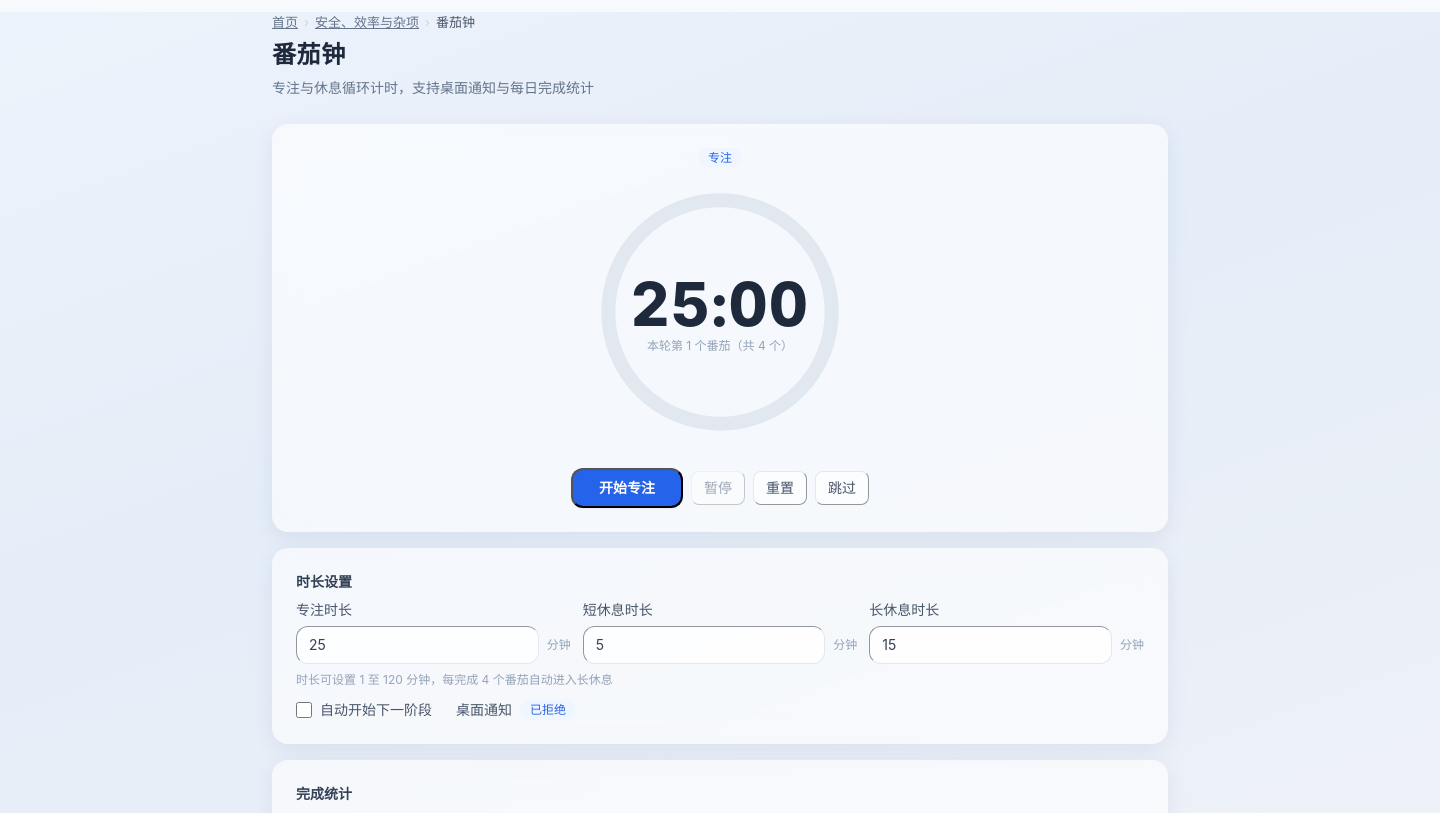
Test case: PomodoroTimer 组件测试 › 开始后倒计时逐秒递减
The image size is (1440, 813).
Click the button "开始专注": (627, 488) [571,468,683,508]
Wait 3000 ms
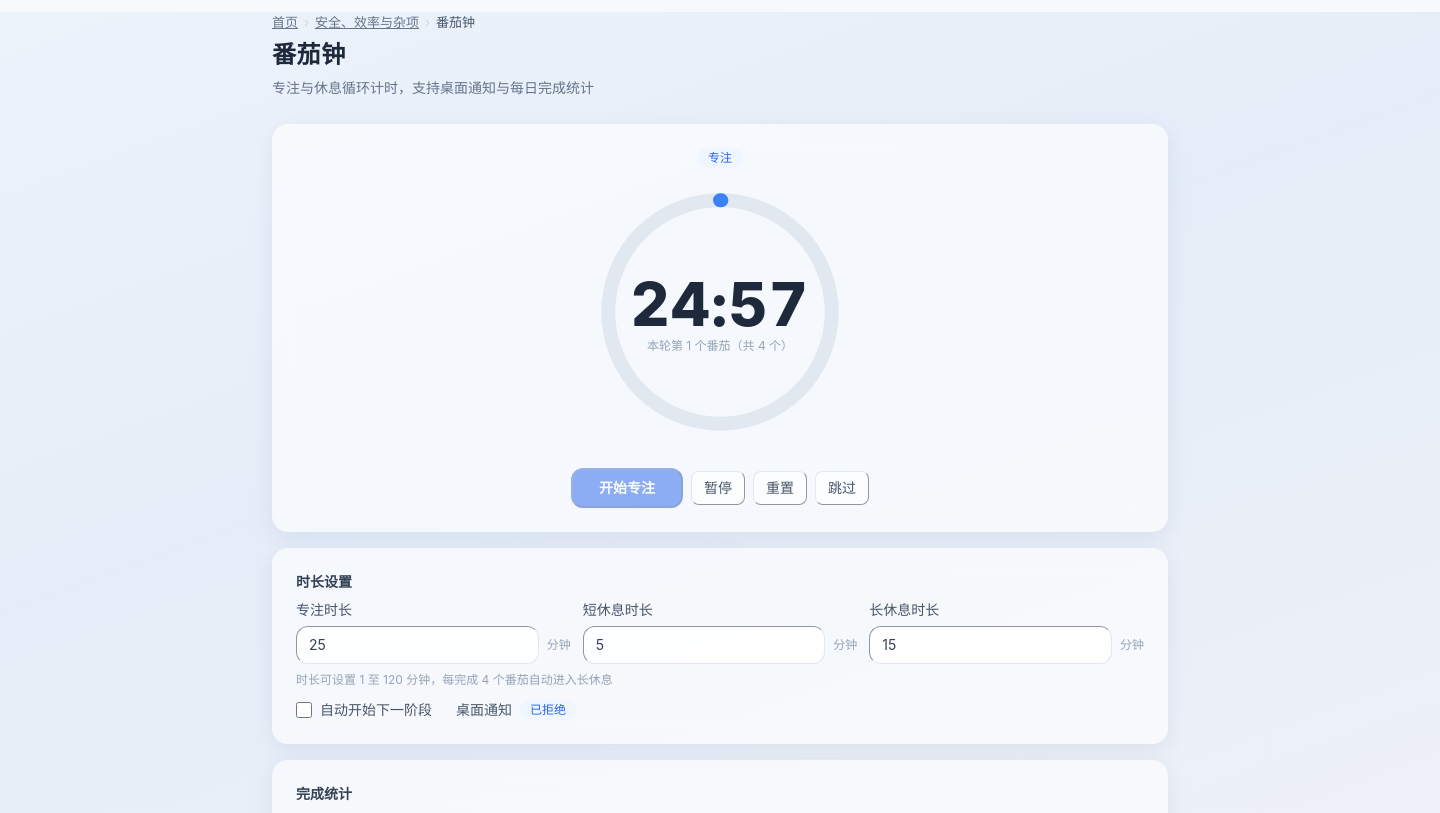
Check: the text "24:57" is shown, box [631,274,809,334]
